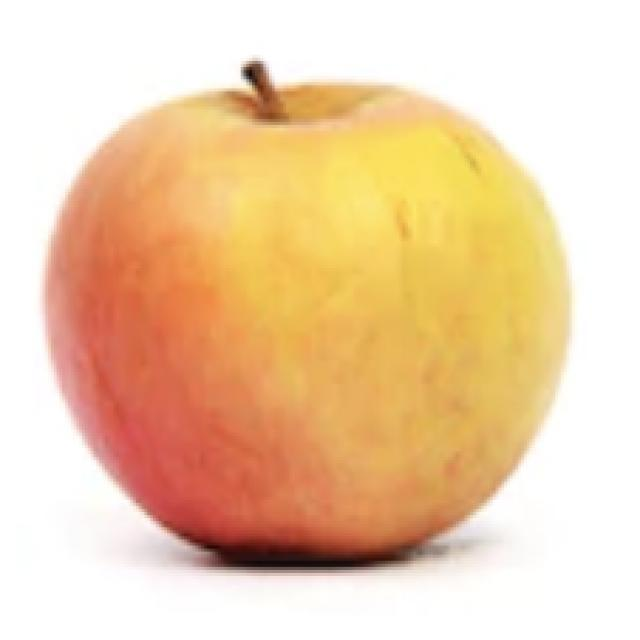Fresh Apple: (35, 78, 588, 577)
